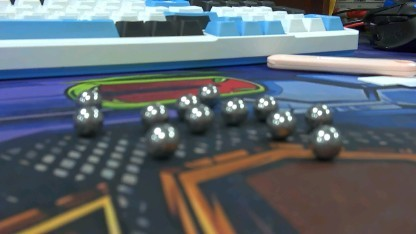ironball: (310, 128, 346, 161), (221, 92, 250, 128), (143, 126, 176, 157), (303, 94, 334, 127), (266, 107, 295, 140), (184, 105, 216, 133), (137, 98, 166, 127), (73, 108, 103, 132), (73, 85, 100, 106), (256, 93, 273, 119), (177, 92, 196, 114), (196, 79, 216, 98)
